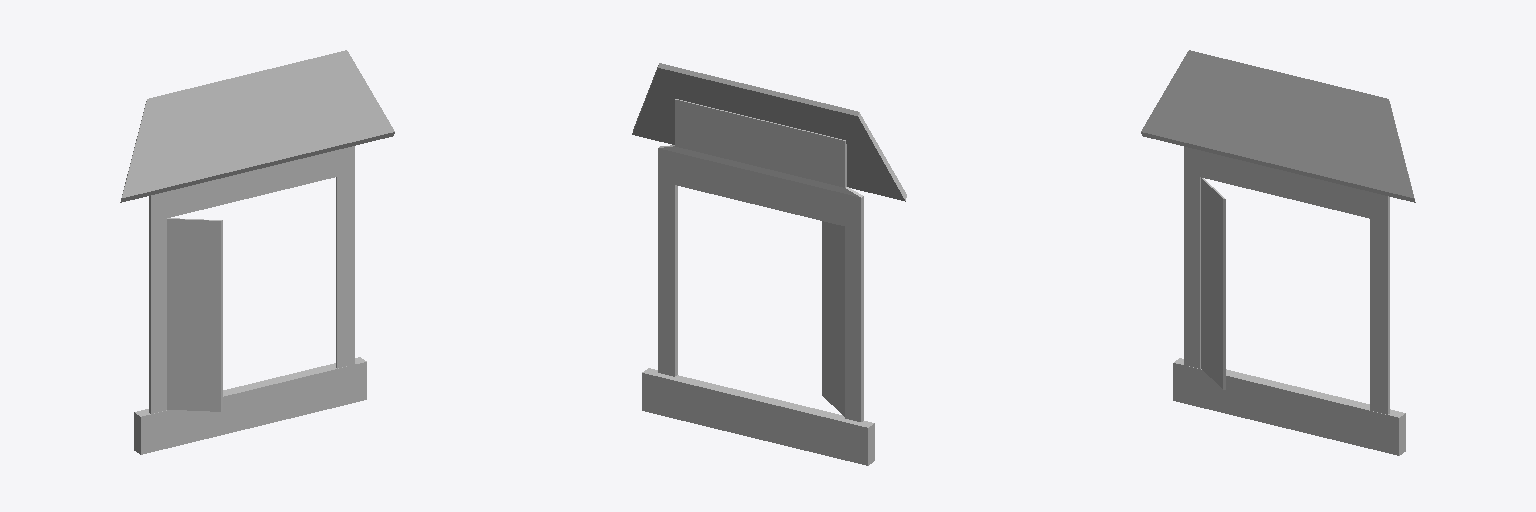
File: menkou2.obj
The picture shows the model from 3 angles: view 1: azimuth 30°, elevation 25°; view 2: azimuth 150°, elevation 25°; view 3: azimuth 330°, elevation 25°; orthographic projection.
Visible parts, largest first — view 1: Box001_1, Box002_1, Box004_1, Box003_1; view 2: Box002_1, Box001_1, Box003_1, Box004_1; view 3: Box001_1, Box002_1, Box003_1, Box004_1.
Boxes of the visible parts, x1=… form: Box001_1: x1=120, y1=50, x2=394, y2=202; Box002_1: x1=149, y1=146, x2=354, y2=413; Box004_1: x1=167, y1=218, x2=222, y2=411; Box003_1: x1=134, y1=357, x2=366, y2=454; Box002_1: x1=658, y1=99, x2=863, y2=421; Box001_1: x1=632, y1=63, x2=906, y2=201; Box003_1: x1=642, y1=368, x2=874, y2=465; Box004_1: x1=822, y1=221, x2=844, y2=416; Box001_1: x1=1141, y1=50, x2=1415, y2=202; Box002_1: x1=1184, y1=147, x2=1389, y2=414; Box003_1: x1=1173, y1=358, x2=1405, y2=455; Box004_1: x1=1201, y1=178, x2=1225, y2=389.
Size of the model in its own units: 157 by 193 by 21.42.